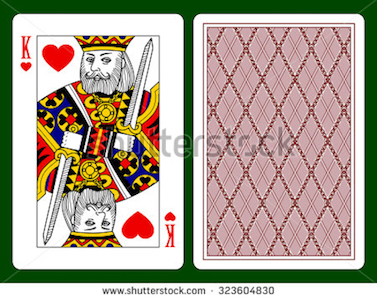KingOfHearts: (10, 10, 188, 275)
